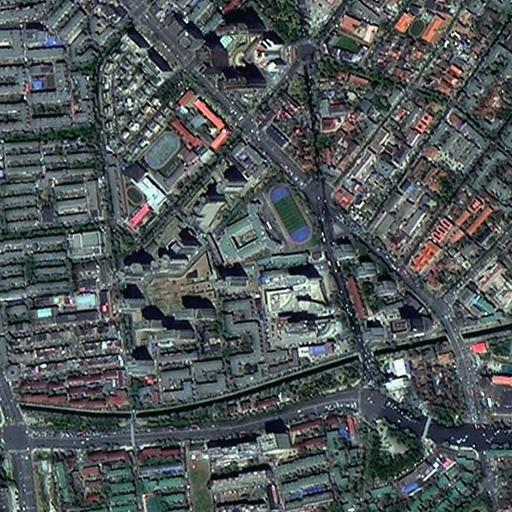school: (217, 180, 322, 263), (140, 125, 202, 188), (119, 163, 171, 233)
